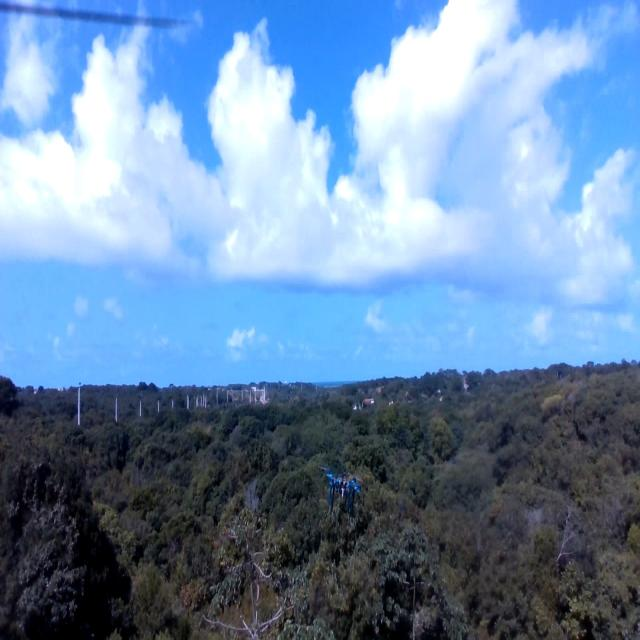-uav-: (319, 452, 369, 526)
